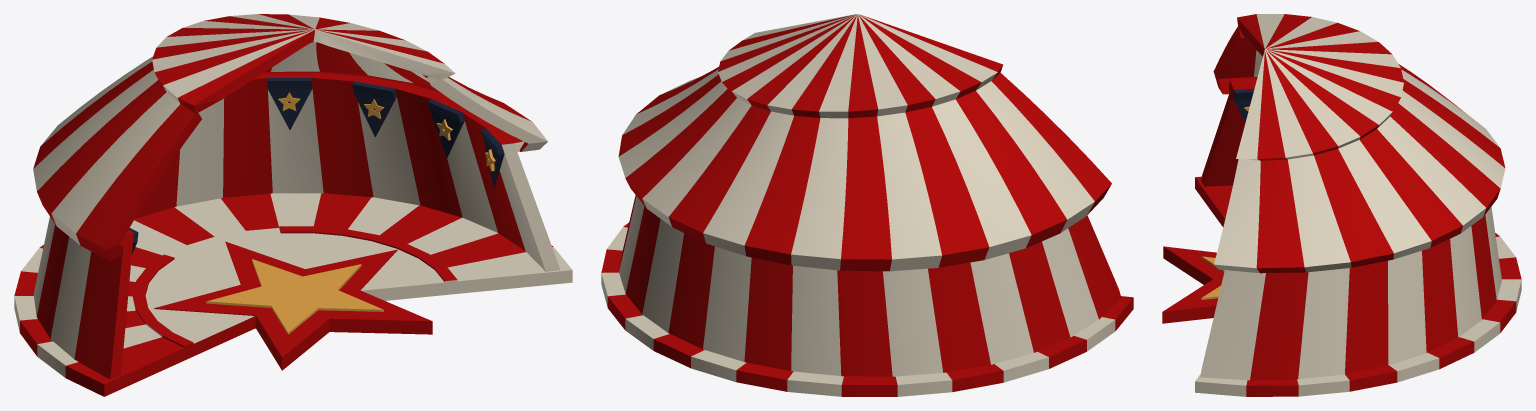
The model's file is circus_04.fbx.
3 views of the same model, side by side, from view 1: azimuth 30°, elevation 25°; view 2: azimuth 150°, elevation 25°; view 3: azimuth 270°, elevation 25° (orthographic). The views are drawn at different scales.
Visible parts, largest first — view 1: F_Circus_01; view 2: F_Circus_01; view 3: F_Circus_01.
Boxes of the visible parts, box(x1,y1,x2,y2) form: F_Circus_01: box(14, 14, 572, 396); F_Circus_01: box(601, 14, 1133, 396); F_Circus_01: box(1162, 14, 1521, 396).
Bounding box in the file's own units: 3676 × 1998 × 2623.
